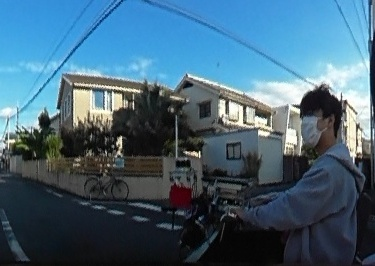person: (257, 88, 360, 266)
